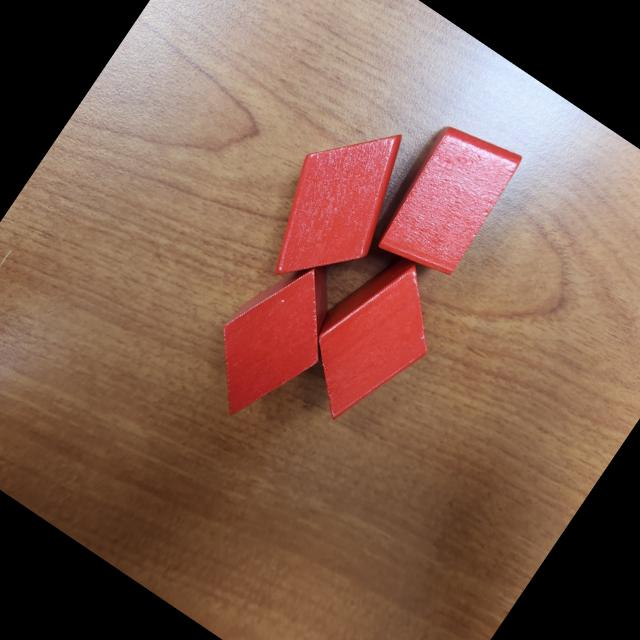red: (244, 98, 434, 308), (281, 237, 465, 441), (185, 241, 364, 438), (362, 110, 528, 294)
